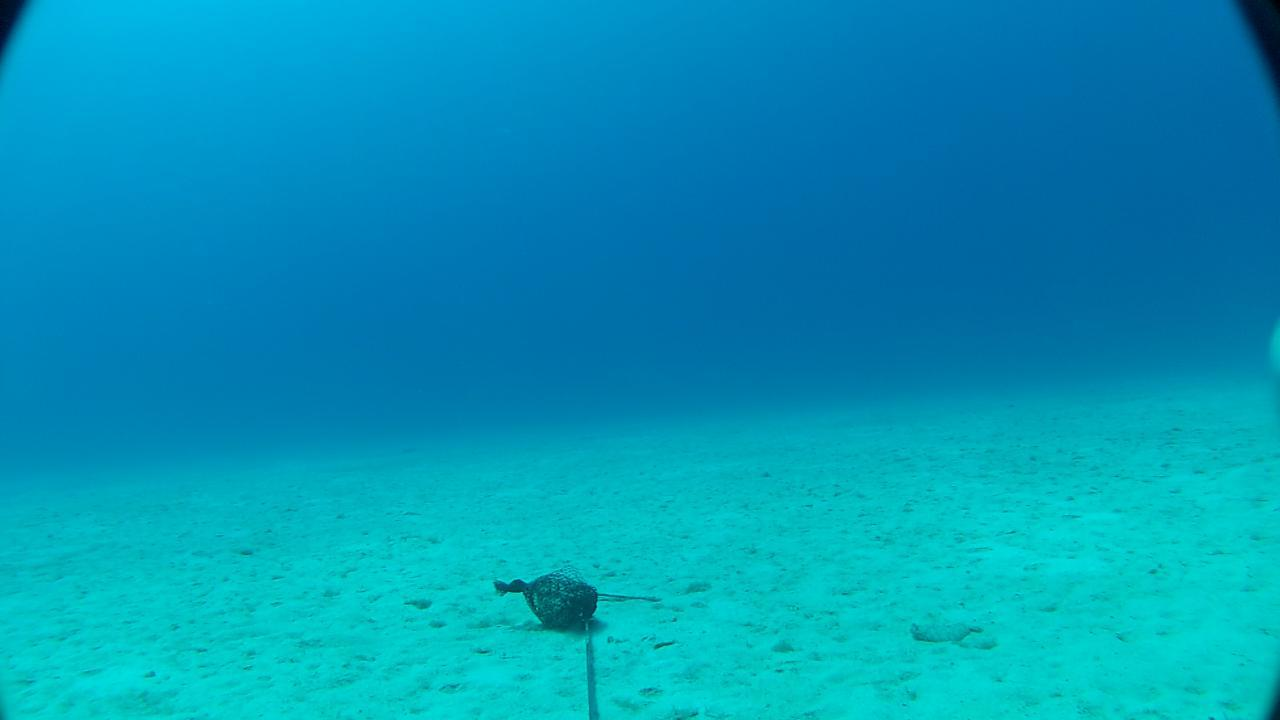bothus: (900, 616, 988, 649)
